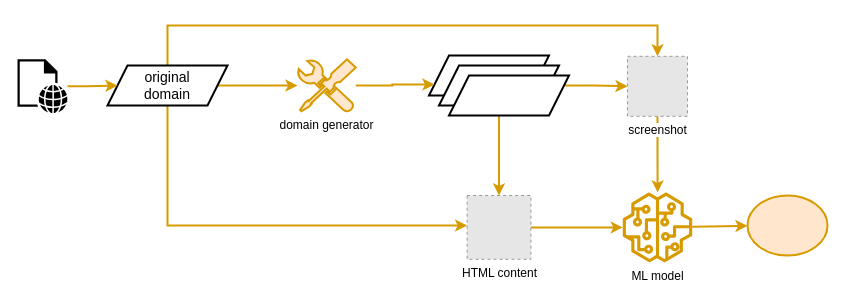
This 845x300 diagram has some shape labels left out. Grey dashed boxes stand in for pictures. The box of each missing label's shape, as (x1, y1, x2, y2) in pixels:
phishing or not?: (746, 194, 828, 256)
suspicious domains: (448, 74, 570, 116)
